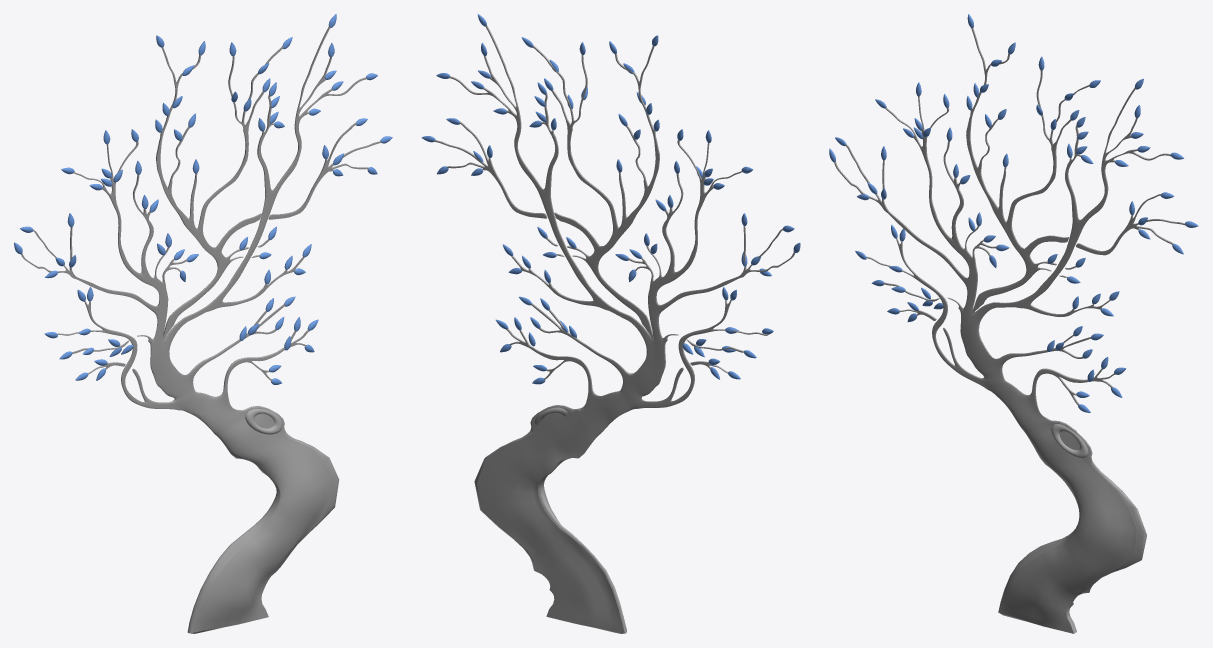
Rendered from evilTree2_withLeaves.fbx.
3 renders of one model, left to right at view 1: azimuth 30°, elevation 25°; view 2: azimuth 150°, elevation 25°; view 3: azimuth 330°, elevation 25°, orthographic. The views are drawn at different scales.
Visible parts, largest first — view 1: evilTree2_Full; view 2: evilTree2_Full; view 3: evilTree2_Full.
Part boxes in pixels (bbox=[...]): evilTree2_Full: bbox=[14, 14, 392, 633]; evilTree2_Full: bbox=[421, 14, 800, 633]; evilTree2_Full: bbox=[829, 14, 1198, 633].
Bounding box in the file's own units: 23.15 × 35.48 × 1.04.
